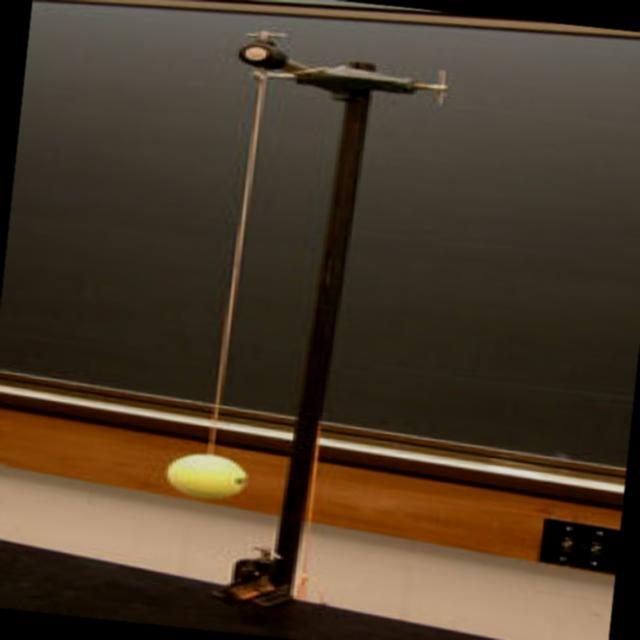Tennis Ball: (163, 452, 248, 505)
